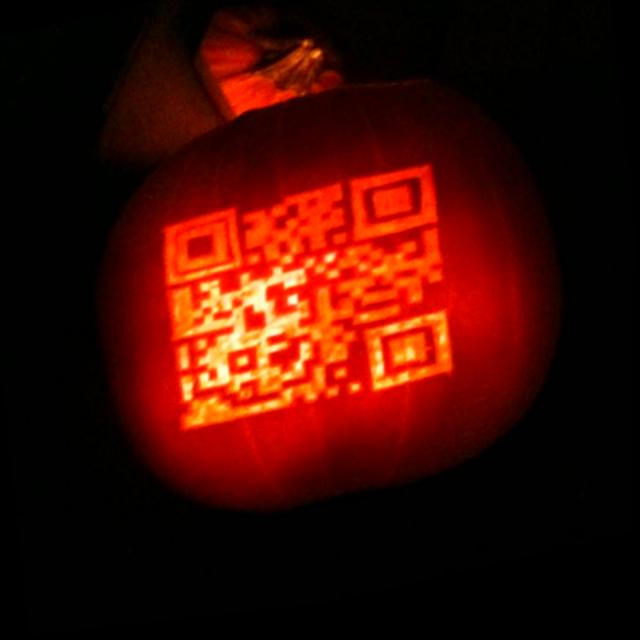qrcode: (159, 170, 458, 442)
